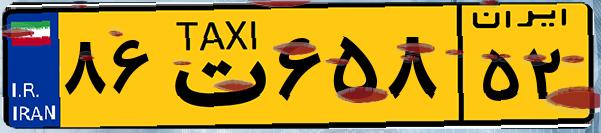2: (525, 38, 570, 115)
5: (330, 28, 385, 110), (475, 38, 525, 113)
6: (270, 28, 330, 110), (110, 28, 158, 98)
8: (385, 28, 445, 110), (57, 26, 110, 100)
ت: (158, 12, 270, 120)
